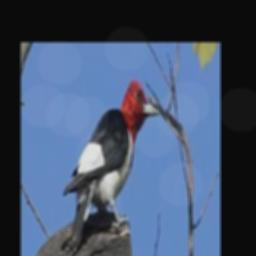Woodpecker: (63, 79, 159, 251)
